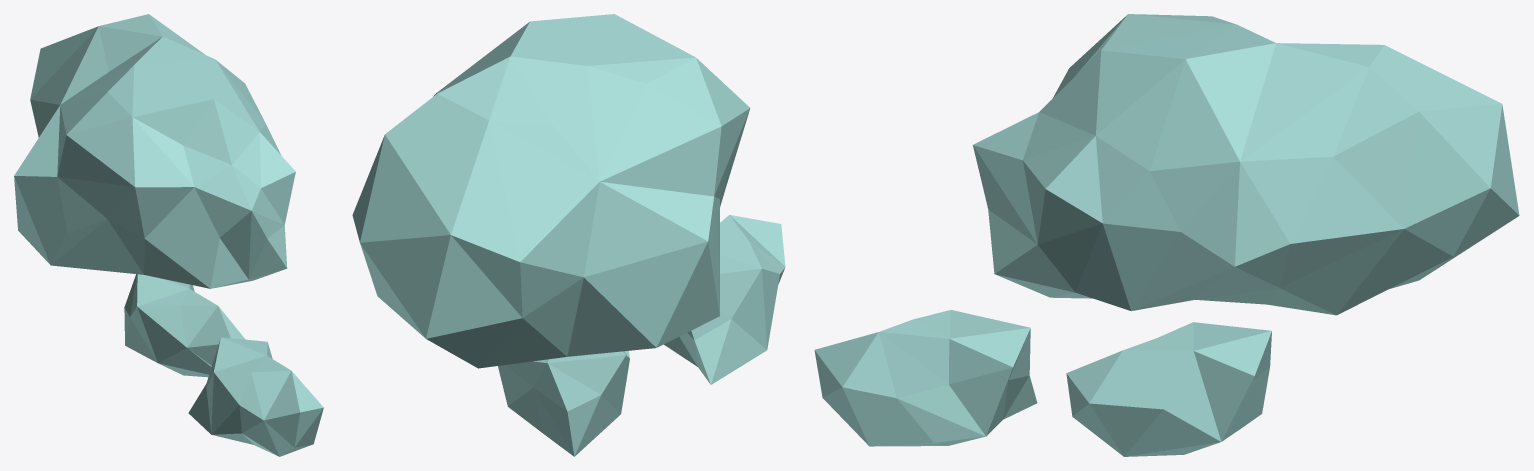
File: Cloud_1.fbx
3 views of the same model, side by side, from view 1: azimuth 30°, elevation 25°; view 2: azimuth 150°, elevation 25°; view 3: azimuth 270°, elevation 25° (orthographic). The views are drawn at different scales.
Parts seen in each view (by area): view 1: Icosphere.001; view 2: Icosphere.001; view 3: Icosphere.001.
Boxes of the visible parts, box(x1,y1,x2,y2) form: Icosphere.001: box(14, 14, 323, 456); Icosphere.001: box(352, 14, 785, 456); Icosphere.001: box(814, 14, 1519, 456).
Size of the model in its own units: 173 by 211 by 318.
Materials: 1 (1 with a texture image).
